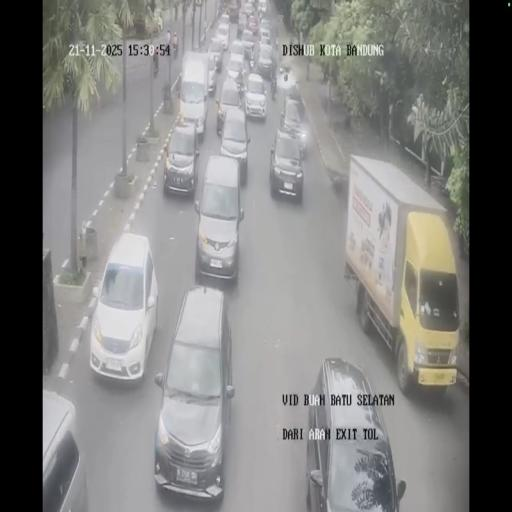car: (89, 231, 159, 381), (193, 156, 244, 284), (42, 388, 87, 509), (163, 121, 201, 195), (279, 91, 307, 157), (216, 77, 244, 138), (244, 70, 267, 121), (257, 42, 275, 78), (207, 39, 224, 76), (226, 52, 245, 85), (240, 28, 256, 58), (260, 27, 272, 46), (248, 14, 259, 33), (244, 1, 254, 17), (238, 10, 246, 30), (220, 13, 230, 25), (258, 0, 266, 14)
motorcycle: (270, 68, 276, 98), (172, 37, 178, 58)
truck: (346, 162, 458, 396), (178, 50, 211, 141), (226, 0, 240, 22)
